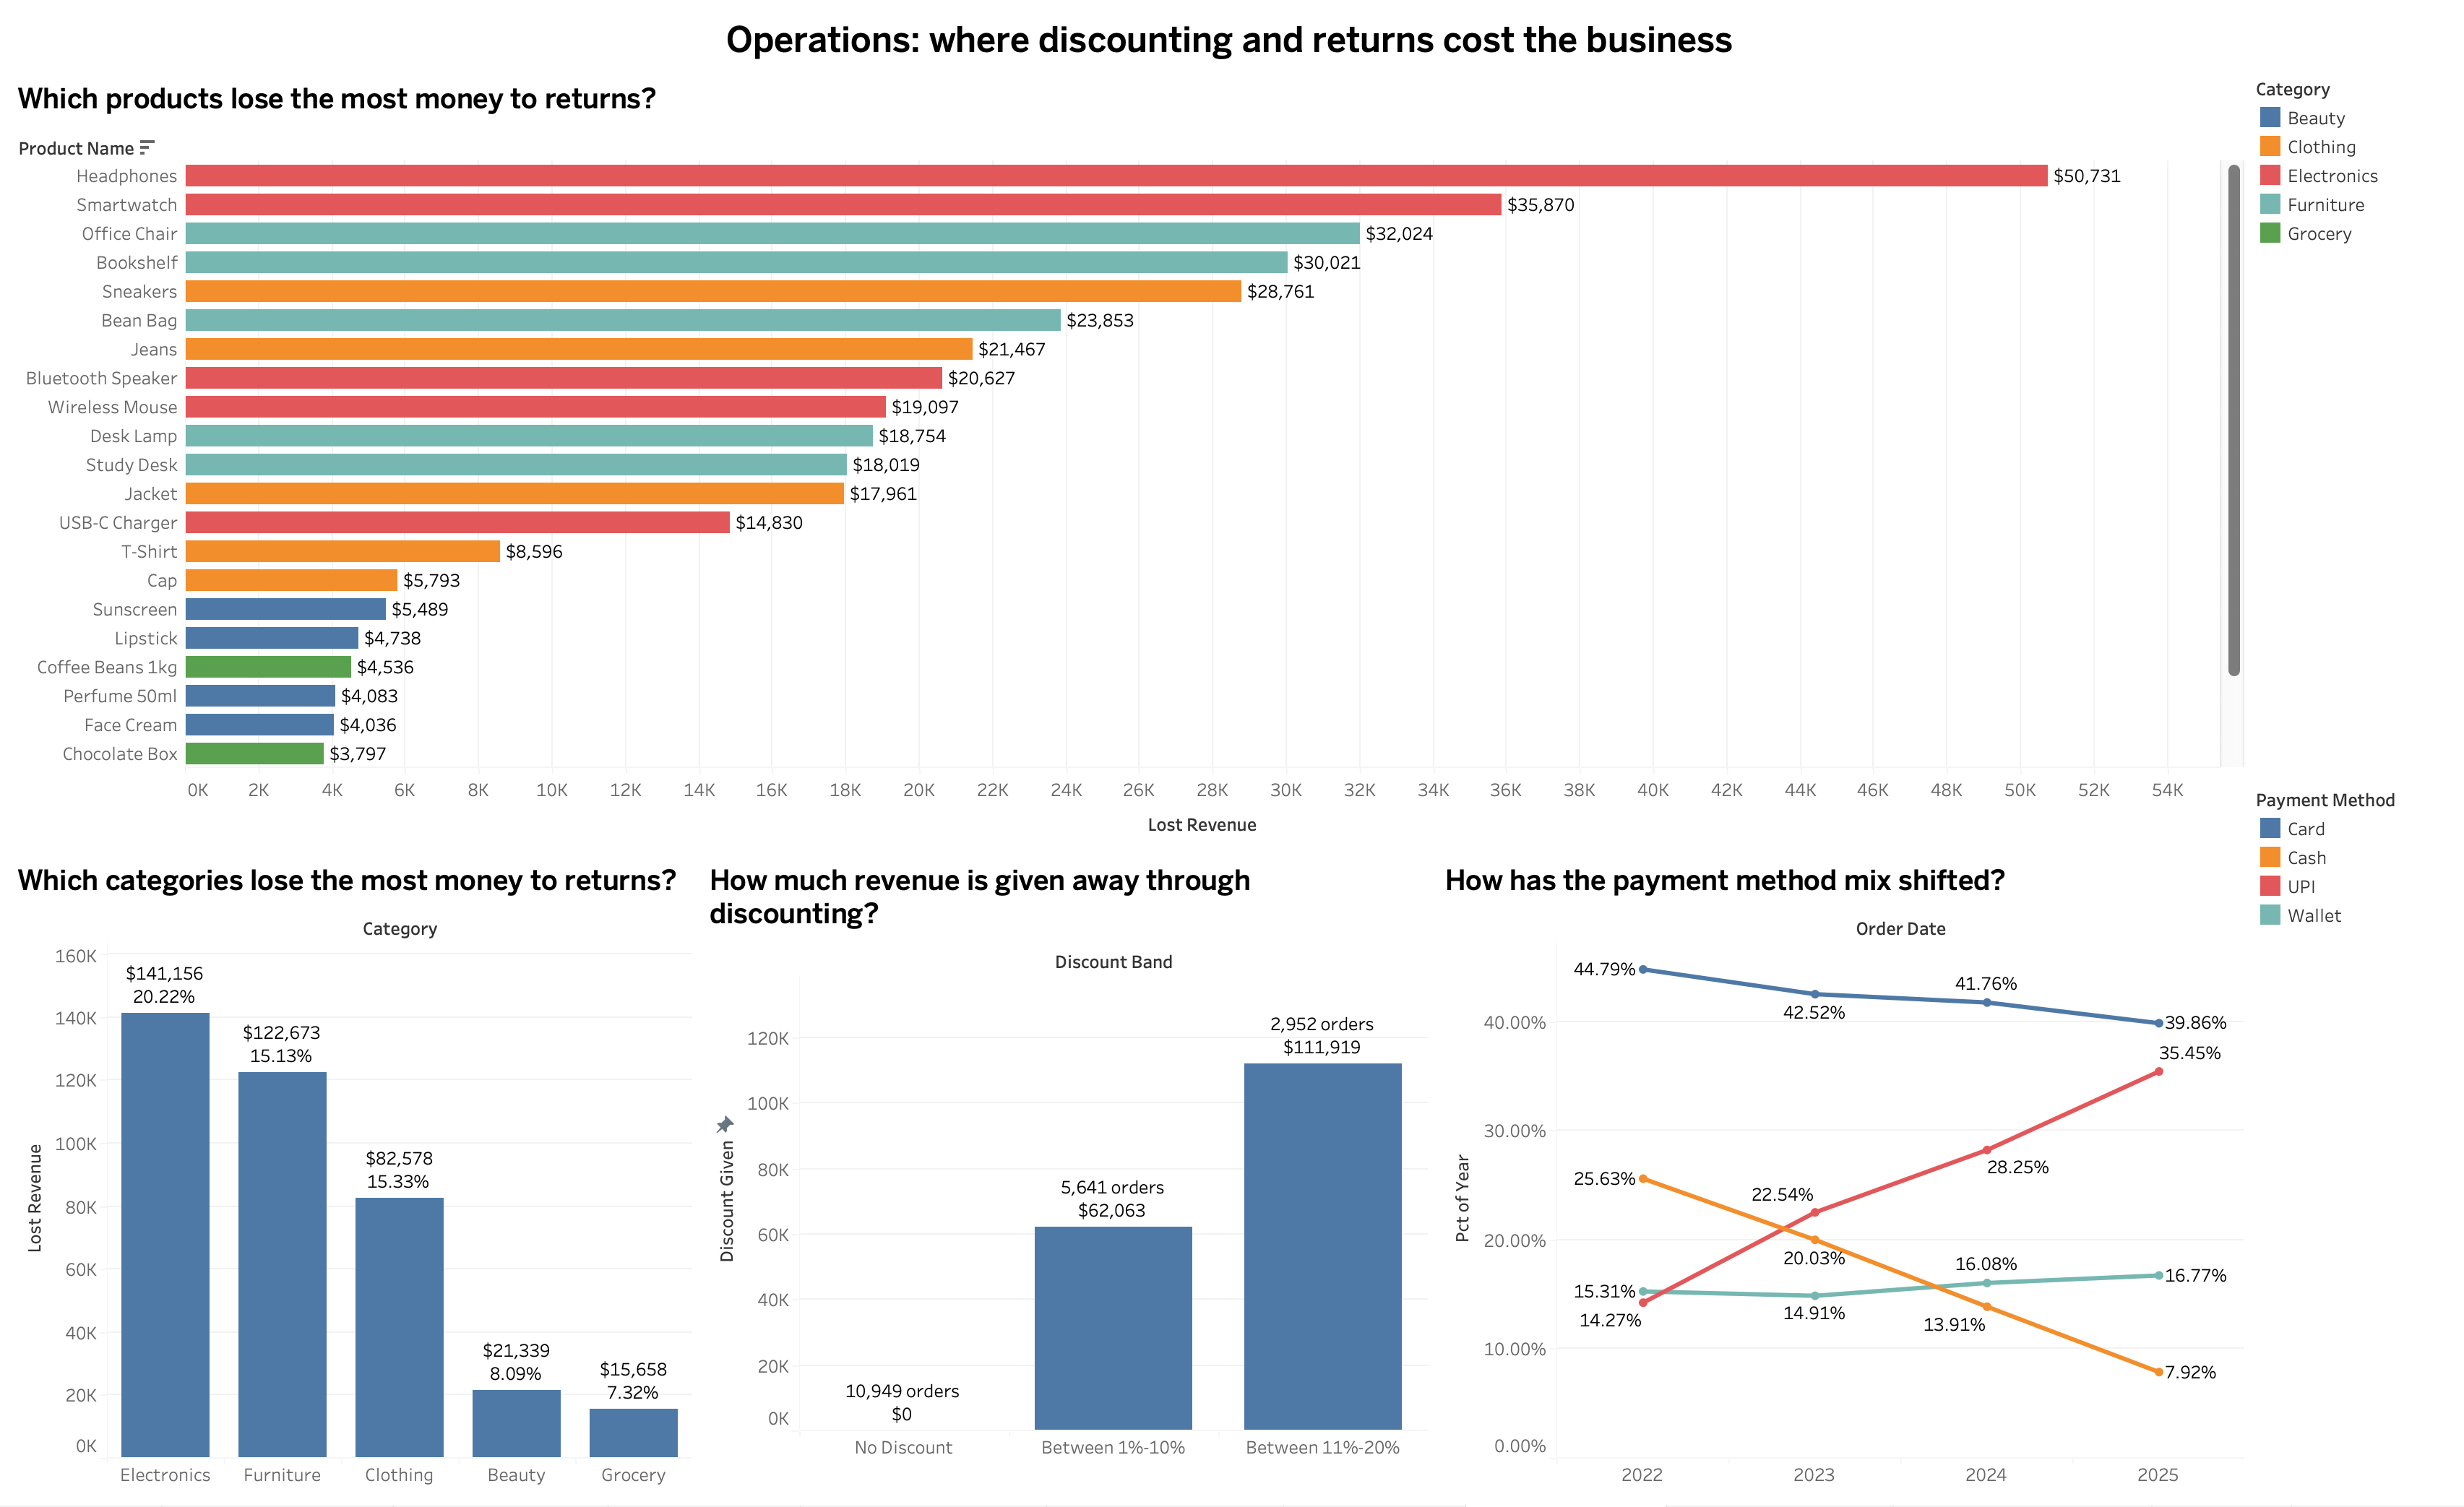

What the dashboard file says about the page in this screenshot:
{"tool":"tableau","page":{"name":"Operations Quality","canvas":[1000,1000],"units":"permille","ordinal":1},"visuals":[{"type":"title","box":[5.3,9.2,989.3,49.6]},{"type":"worksheet","title":"06 Q2b Losses by Product","mark":"Automatic","rows":["product_name"],"cols":["Calculation_0091241463205889"],"box":[5.3,58.8,907.2,512.1]},{"type":"legend","title":"06 Q2b Losses by Product","param":"[federated.0hfglzq0l1mqyk14278fh0dpcm5w].[none:category:nk]","box":[912.6,58.8,82.1,465.9]},{"type":"legend","title":"06 Q3 Payment Mix","param":"[federated.0hfglzq0l1mqyk14278fh0dpcm5w].[none:payment_method:nk]","box":[912.6,524.7,82.1,466.1]},{"type":"worksheet","title":"06 Q2a Losses by Category","mark":"Automatic","rows":["Calculation_0091241463205889"],"cols":["category"],"box":[5.3,570.9,279.5,419.9]},{"type":"worksheet","title":"06 Q1 Discount Cost","mark":"Automatic","rows":["Calculation_0765311563501573"],"cols":["Calculation_0765311563366404"],"box":[284.8,570.9,297.5,419.9]},{"type":"worksheet","title":"06 Q3 Payment Mix","mark":"Line","cols":["order_date"],"box":[582.3,570.9,330.2,419.9]}]}

Visuals, with their boxes on the dashboard's canvas, which has no fixed pixel size, in thousandths of its width and height (x1, y1, x2, y2). These are canvas units, not pixel positions in the 2464x1507 screenshot, which may show the page scaled, cropped or inside an application window:
title: [x1=5, y1=9, x2=995, y2=59]
"06 Q2b Losses by Product" worksheet: [x1=5, y1=59, x2=912, y2=571]
"06 Q2b Losses by Product" legend: [x1=913, y1=59, x2=995, y2=525]
"06 Q3 Payment Mix" legend: [x1=913, y1=525, x2=995, y2=991]
"06 Q2a Losses by Category" worksheet: [x1=5, y1=571, x2=285, y2=991]
"06 Q1 Discount Cost" worksheet: [x1=285, y1=571, x2=582, y2=991]
"06 Q3 Payment Mix" worksheet (Line marks): [x1=582, y1=571, x2=912, y2=991]
